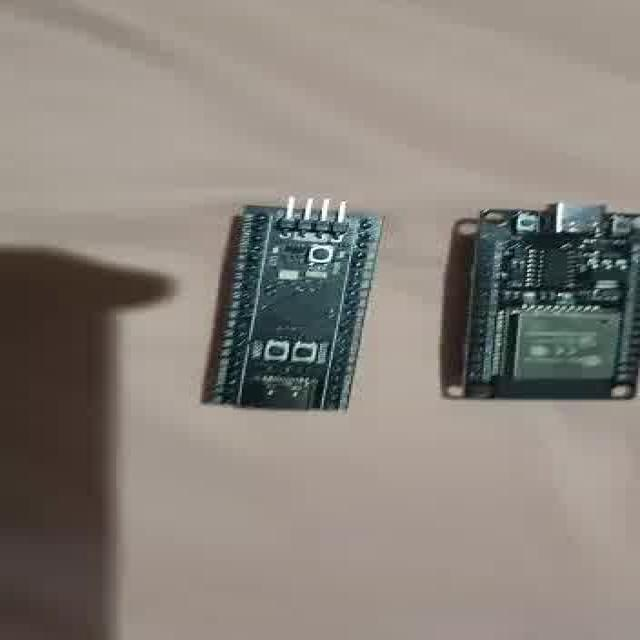ESP32: (466, 204, 640, 399)
STM32: (206, 199, 382, 411)
